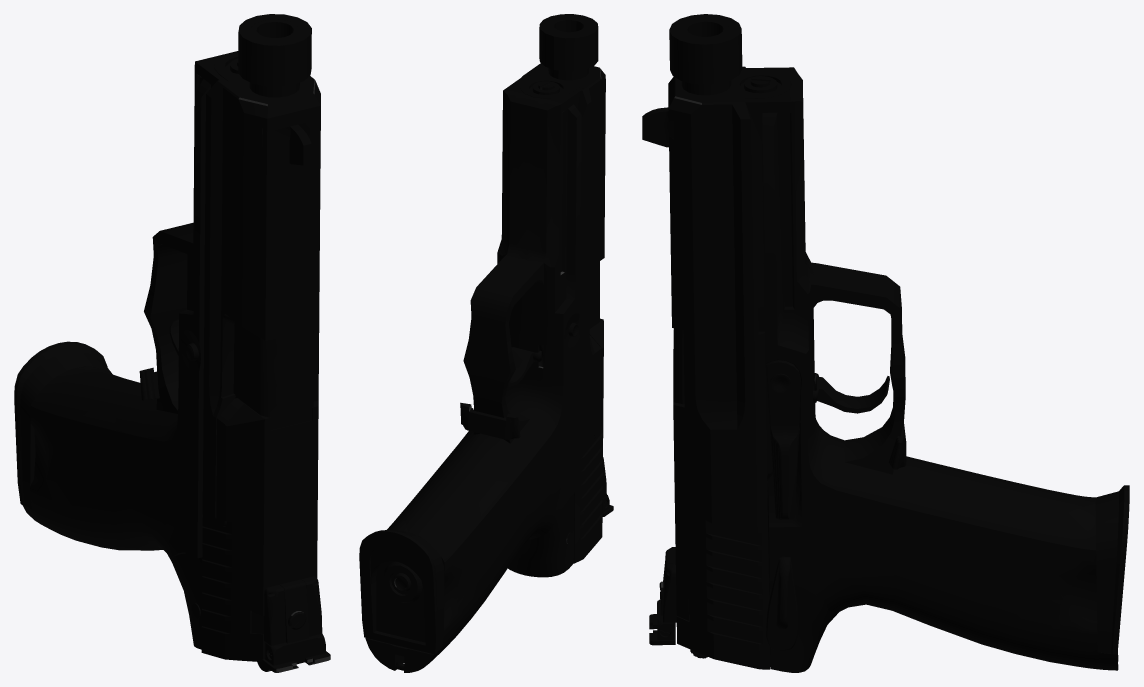
File: HK_USP45.fbx
3 renders of one model, left to right at view 1: azimuth 30°, elevation 25°; view 2: azimuth 150°, elevation 25°; view 3: azimuth 270°, elevation 25°, orthographic. The views are drawn at different scales.
Visible parts, largest first — view 1: asset_HK_USP45.001; view 2: asset_HK_USP45.001; view 3: asset_HK_USP45.001.
Boxes of the visible parts, x1,y1,x2,y2 form: asset_HK_USP45.001: [14, 14, 330, 672]; asset_HK_USP45.001: [359, 14, 613, 672]; asset_HK_USP45.001: [642, 14, 1129, 672].
Bounding box in the file's own units: 0.0228 × 0.135 × 0.0938.
